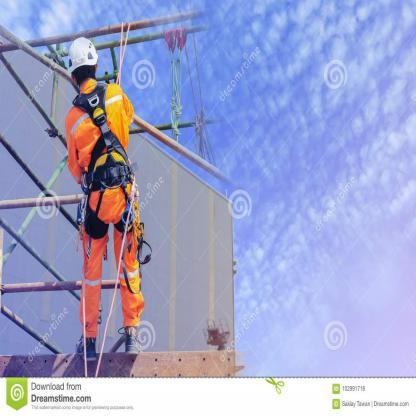bota: (119, 326, 144, 356), (74, 334, 100, 362)
capacete: (70, 37, 100, 77)
